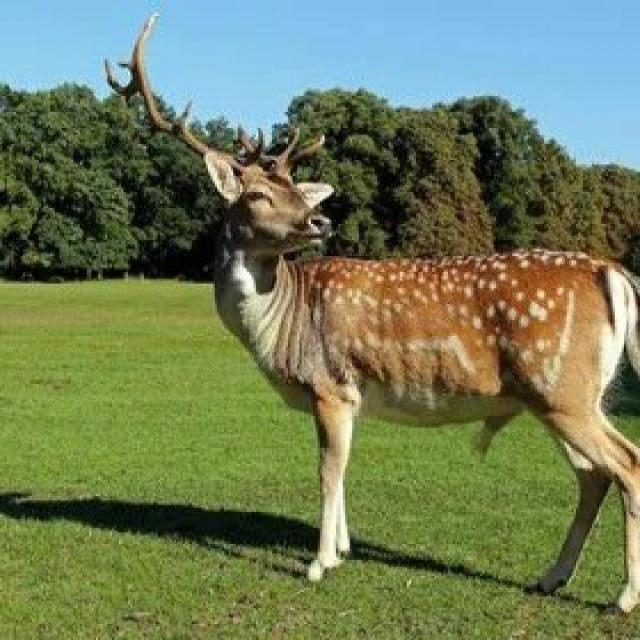deer: (113, 86, 640, 553)
